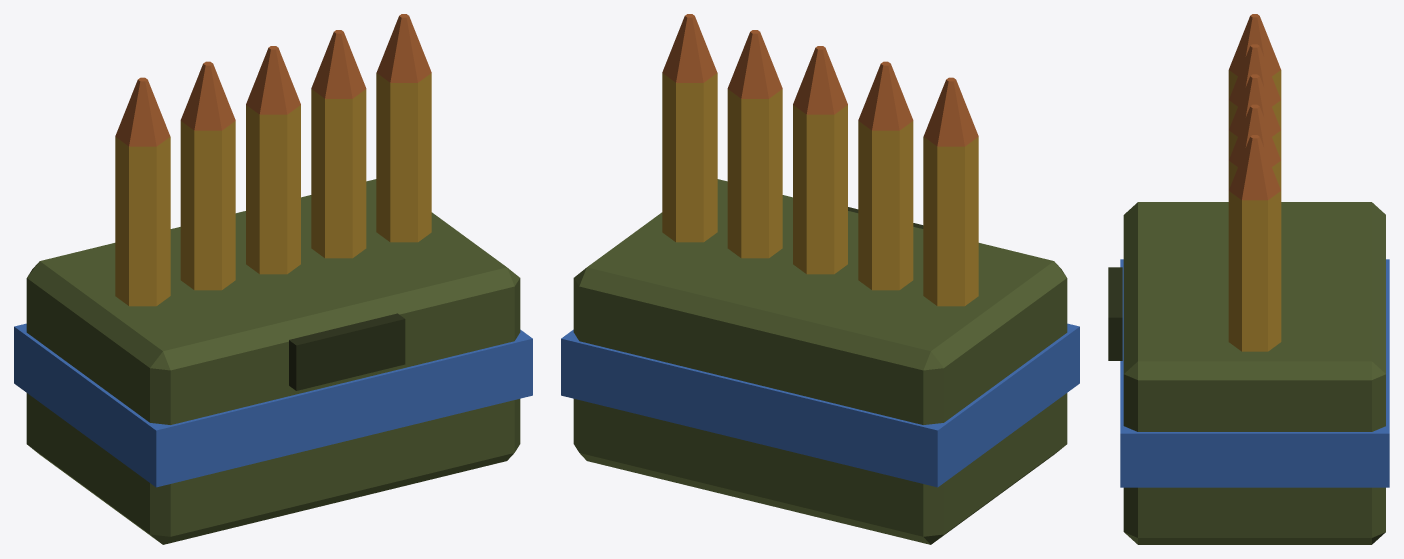
The model's file is ammo_sniper.glb.
The picture shows the model from 3 angles, left to right: view 1: azimuth 30°, elevation 25°; view 2: azimuth 150°, elevation 25°; view 3: azimuth 270°, elevation 25°; orthographic projection. The views are drawn at different scales.
Parts seen in each view (by area): view 1: AmmoSniper; view 2: AmmoSniper; view 3: AmmoSniper.
Boxes of the visible parts, <box> form: AmmoSniper: <box>14,14,532,544</box>; AmmoSniper: <box>561,14,1079,544</box>; AmmoSniper: <box>1108,14,1389,544</box>.
Bounding box in the file's own units: 0.346 × 0.36 × 0.236.
